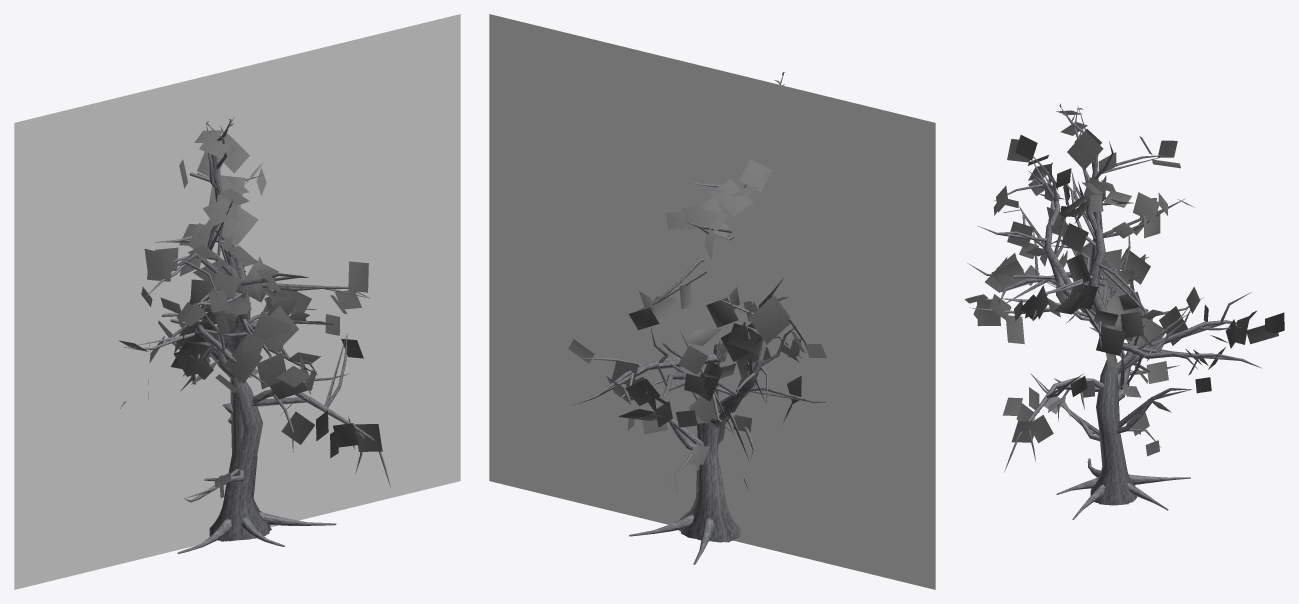
The model's file is corrompu_adulte_c.fbx.
The picture shows the model from 3 angles, left to right: view 1: azimuth 30°, elevation 25°; view 2: azimuth 150°, elevation 25°; view 3: azimuth 270°, elevation 25°; orthographic projection. The views are drawn at different scales.
Visible parts, largest first — view 1: corrompu_adulte_c_LOD3, corrompu_adulte_c_LOD1, corrompu_adulte_c_LOD2; view 2: corrompu_adulte_c_LOD3, corrompu_adulte_c_LOD1, corrompu_adulte_c_LOD2; view 3: corrompu_adulte_c_LOD1, corrompu_adulte_c_LOD2.
Part boxes in pixels (bbox=[...]): corrompu_adulte_c_LOD3: bbox=[14, 14, 460, 589]; corrompu_adulte_c_LOD1: bbox=[118, 117, 390, 553]; corrompu_adulte_c_LOD2: bbox=[122, 119, 382, 553]; corrompu_adulte_c_LOD3: bbox=[489, 14, 935, 589]; corrompu_adulte_c_LOD1: bbox=[570, 72, 826, 564]; corrompu_adulte_c_LOD2: bbox=[568, 72, 824, 564]; corrompu_adulte_c_LOD1: bbox=[966, 104, 1260, 519]; corrompu_adulte_c_LOD2: bbox=[965, 103, 1284, 519].
Size of what is drawn, in the model's own units: 19.03 by 19.03 by 14.07.
